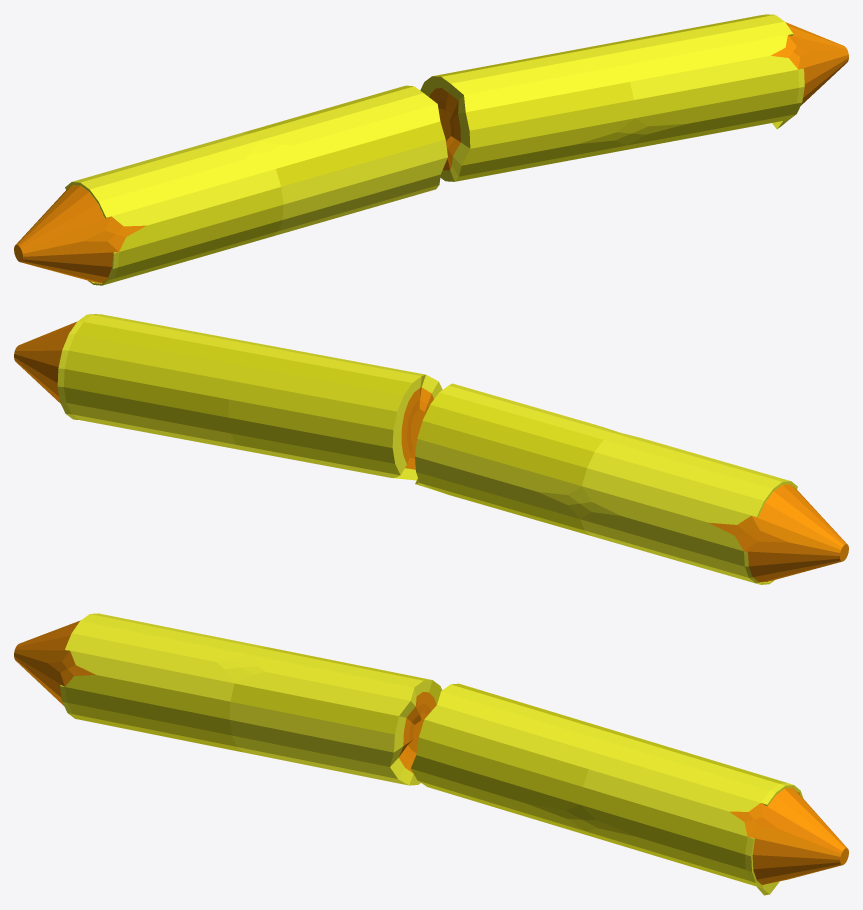
Rendered from Broken log_21.fbx.
3 renders of one model, top to bottom at view 1: azimuth 30°, elevation 25°; view 2: azimuth 150°, elevation 25°; view 3: azimuth 330°, elevation 25°, orthographic.
Parts seen in each view (by area): view 1: Circle.309, Circle.314; view 2: Circle.309, Circle.314; view 3: Circle.314, Circle.309.
Boxes of the visible parts, <box> form: Circle.309: <box>14,85,447,285</box>; Circle.314: <box>420,14,848,181</box>; Circle.309: <box>415,383,848,584</box>; Circle.314: <box>14,314,442,480</box>; Circle.314: <box>411,683,848,895</box>; Circle.309: <box>14,613,442,785</box>.
Size of the model in its own units: 226 by 32.32 by 25.71.
